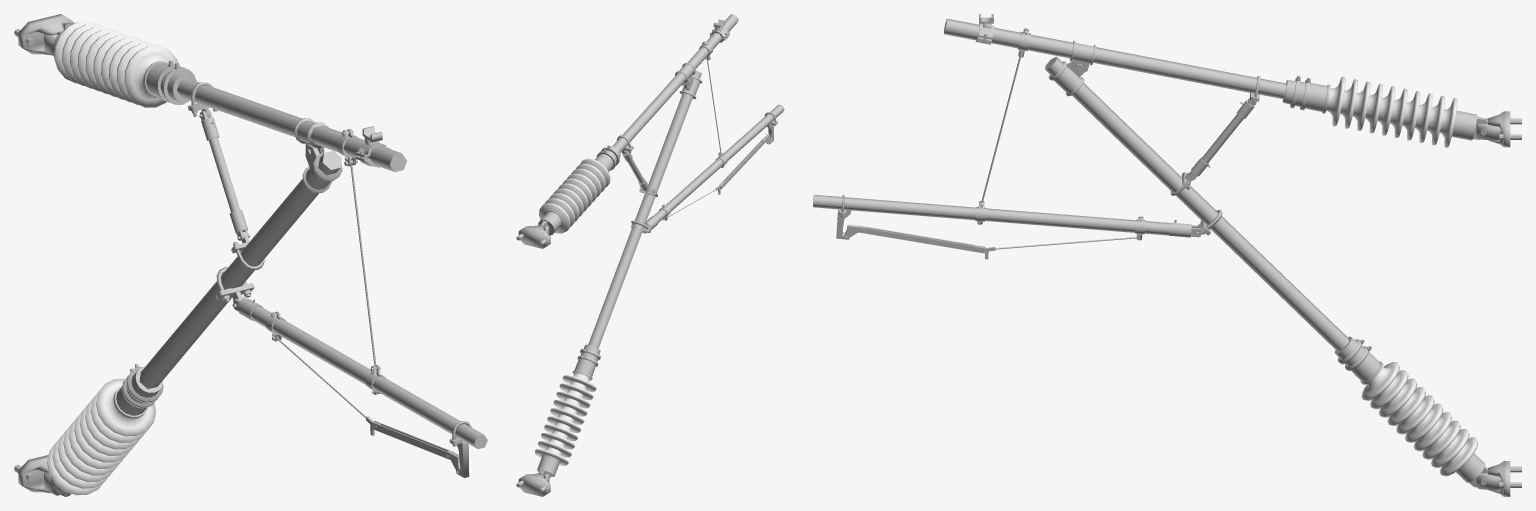
Rendered from single_short_elevated_anti.obj.
3 views of the same model, side by side, from view 1: azimuth 30°, elevation 25°; view 2: azimuth 150°, elevation 25°; view 3: azimuth 270°, elevation 25° (orthographic). The views are drawn at different scales.
Visible parts, largest first — view 1: 贝塞尔曲线.056, 贝塞尔曲线.057, 贝塞尔曲线.055, 柱体.558, 柱体.081, 立方体.188, 柱体.082, 柱体.551, 立方体.187, 立方体.193, 贝塞尔曲线.054, 柱体.568 (+18 smaller); view 2: 贝塞尔曲线.056, 贝塞尔曲线.057, 贝塞尔曲线.055, 立方体.188, 立方体.187, 柱体.551, 柱体.569, 柱体.559, 立方体.193, 柱体.083, 柱体.558, 柱体.553 (+6 smaller); view 3: 贝塞尔曲线.056, 贝塞尔曲线.057, 贝塞尔曲线.055, 柱体.082, 柱体.551, 立方体.193.
Part boxes in pixels (x1,y1,x2,y2): 贝塞尔曲线.056: (139,150,341,388); 贝塞尔曲线.057: (177,79,406,171); 贝塞尔曲线.055: (251,306,487,448); 柱体.558: (96,378,155,436); 柱体.081: (124,46,177,107); 立方体.188: (18,14,74,55); 柱体.082: (143,61,196,102); 柱体.551: (113,366,162,418); 立方体.187: (18,455,50,493); 立方体.193: (371,421,454,459); 贝塞尔曲线.054: (208,137,239,212); 柱体.568: (47,442,102,495); 贝塞尔曲线.056: (588,70,701,348); 贝塞尔曲线.057: (612,14,738,152); 贝塞尔曲线.055: (653,104,784,222); 立方体.188: (518,225,550,248); 立方体.187: (518,473,550,496); 柱体.551: (572,344,600,380); 柱体.569: (539,203,570,233); 柱体.559: (537,454,560,476); 立方体.193: (718,138,766,189); 柱体.083: (538,210,562,235); 柱体.558: (562,373,596,391); 柱体.553: (556,389,590,408); 贝塞尔曲线.056: (1045,56,1348,351); 贝塞尔曲线.057: (944,18,1286,98); 贝塞尔曲线.055: (813,194,1170,235); 柱体.082: (1282,80,1330,113); 柱体.551: (1335,336,1383,384); 立方体.193: (858,225,985,253).
Size of the model in its own units: 0.24 by 2.47 by 3.35.
